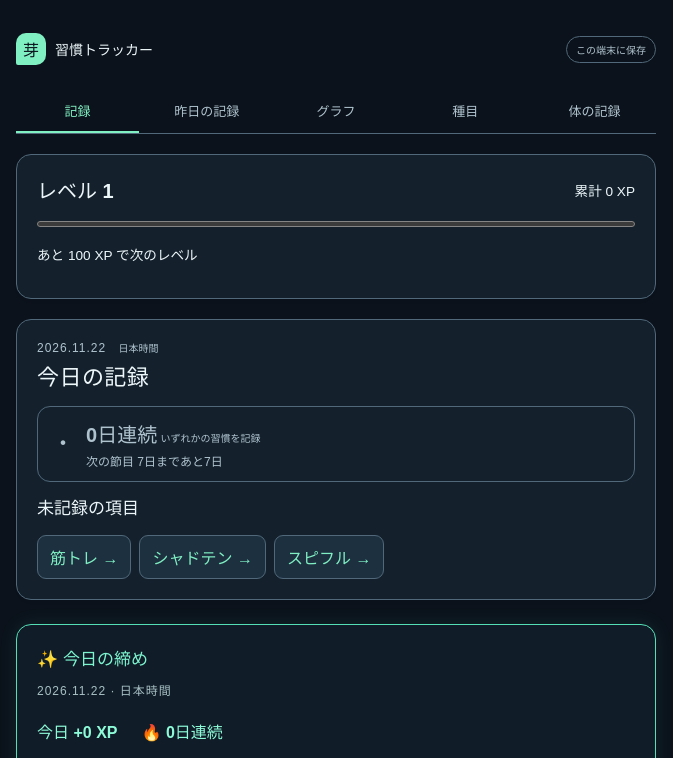
Test: body tab › rejects out-of-range values without saving
Click the button with test id "nav-body" at (594, 111), box left=533, top=89, right=656, bottom=133
(page scrolled)
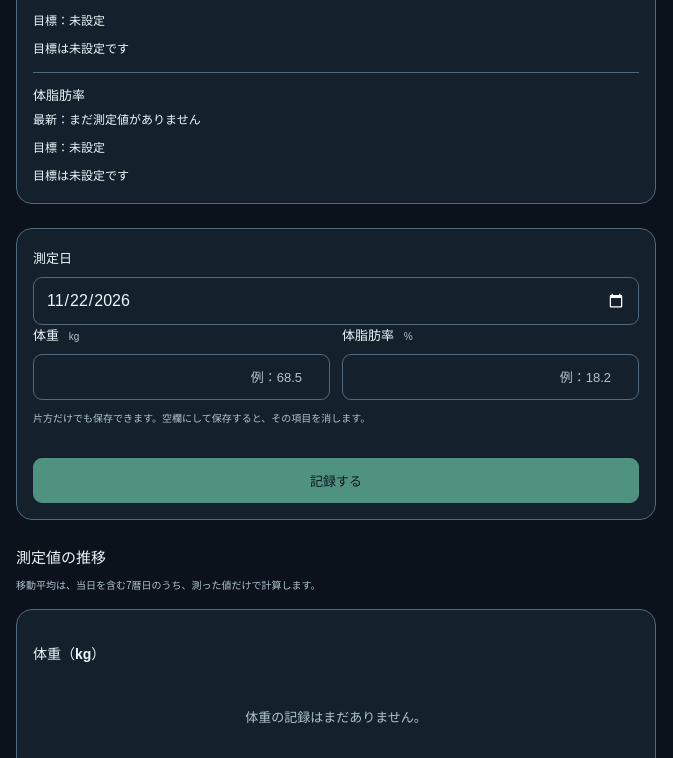
Type "120" into the number field with test id "body-fat-input" at (490, 377), box left=342, top=354, right=639, bottom=400
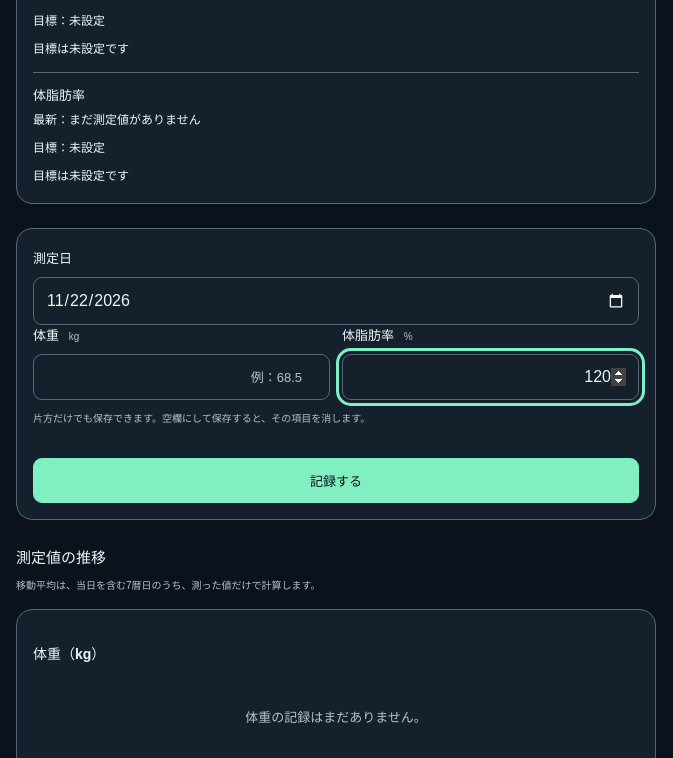
Click the button with test id "body-save-button" at (336, 481), box left=33, top=458, right=639, bottom=503
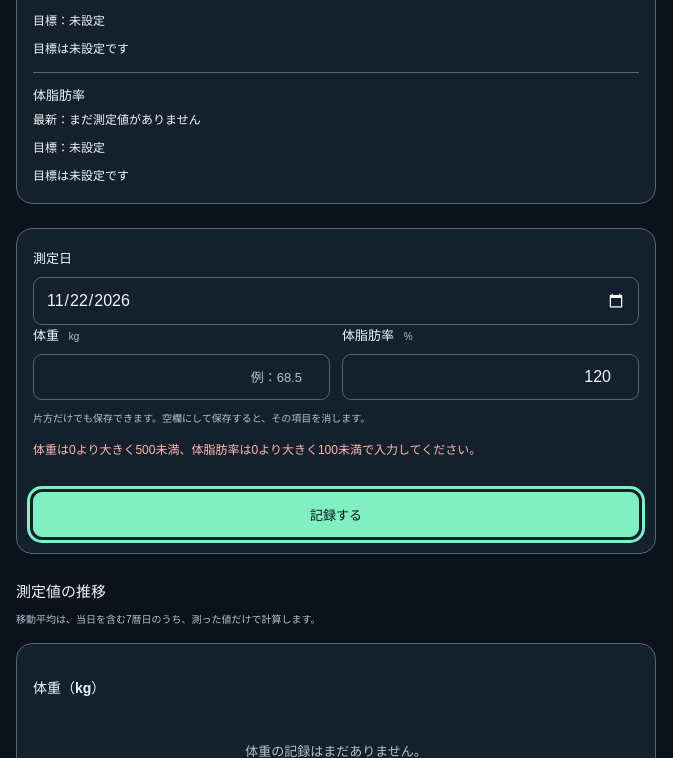
Now the message shows "体脂肪率は0より大きく100未満", box left=33, top=443, right=481, bottom=457
